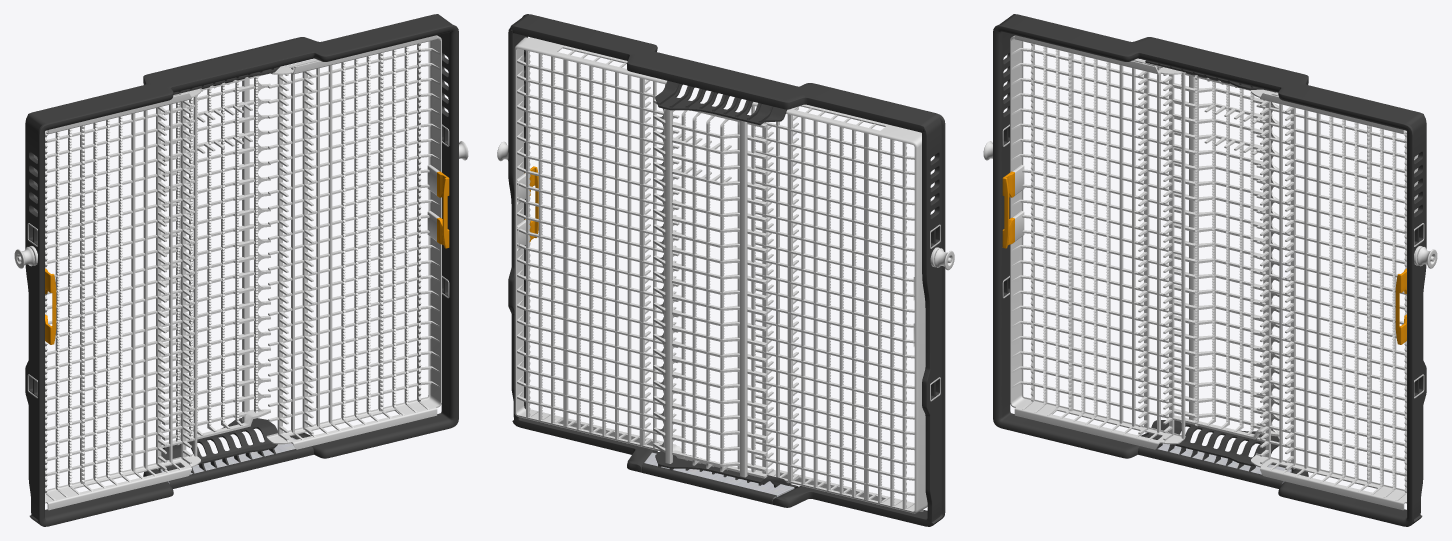
File: SM_Dishwasher_Tray_03.obj
The picture shows the model from 3 angles, left to right: view 1: azimuth 30°, elevation 25°; view 2: azimuth 150°, elevation 25°; view 3: azimuth 330°, elevation 25°; orthographic projection.
Parts seen in each view (by area): view 1: SM_Dishwasher_Tray_03; view 2: SM_Dishwasher_Tray_03; view 3: SM_Dishwasher_Tray_03.
Boxes of the visible parts, bbox=[...] form: SM_Dishwasher_Tray_03: bbox=[14, 14, 468, 526]; SM_Dishwasher_Tray_03: bbox=[497, 14, 954, 526]; SM_Dishwasher_Tray_03: bbox=[983, 14, 1437, 526].
Bounding box in the file's own units: 0.5338 × 0.46 × 0.0809.
